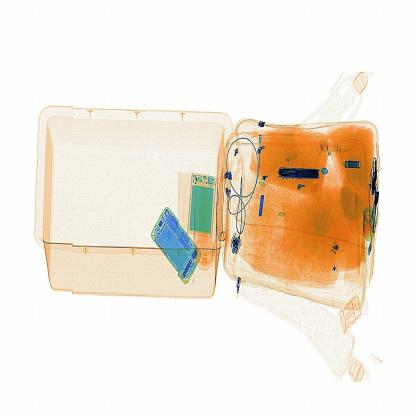scissors: (272, 165, 326, 186)
